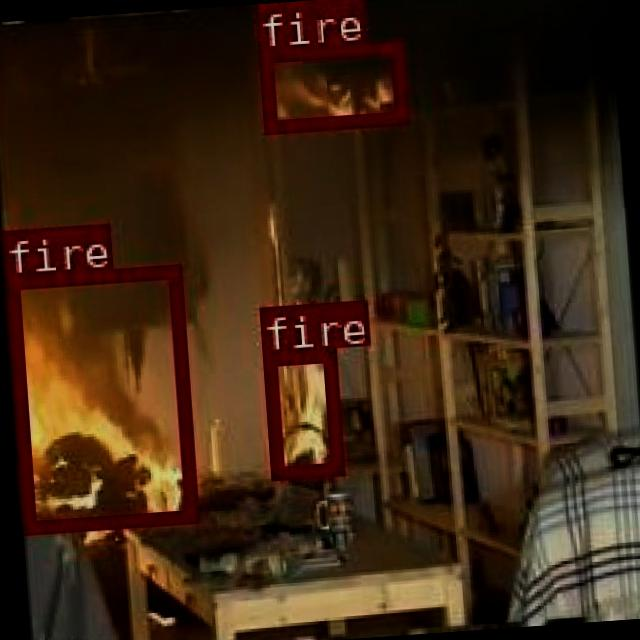fire: (4, 261, 197, 532), (256, 37, 404, 132), (261, 346, 341, 477)
